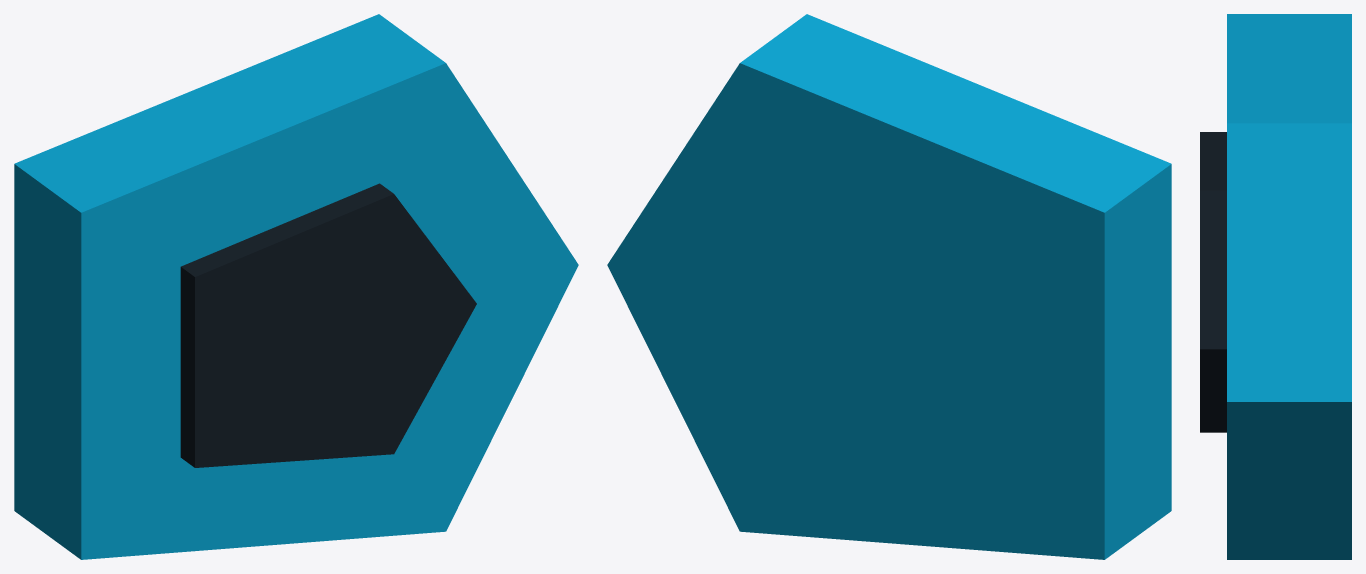
Rendered from SM_PickupShield.obj.
3 renders of one model, left to right at view 1: azimuth 30°, elevation 25°; view 2: azimuth 150°, elevation 25°; view 3: azimuth 270°, elevation 25°, orthographic. The views are drawn at different scales.
Parts seen in each view (by area): view 1: SM_PickupShield; view 2: SM_PickupShield; view 3: SM_PickupShield.
Boxes of the visible parts, x1,y1,x2,y2 form: SM_PickupShield: [14, 14, 578, 559]; SM_PickupShield: [607, 14, 1171, 559]; SM_PickupShield: [1200, 14, 1351, 559].
Bounding box in the file's own units: 60 × 54 × 17.
